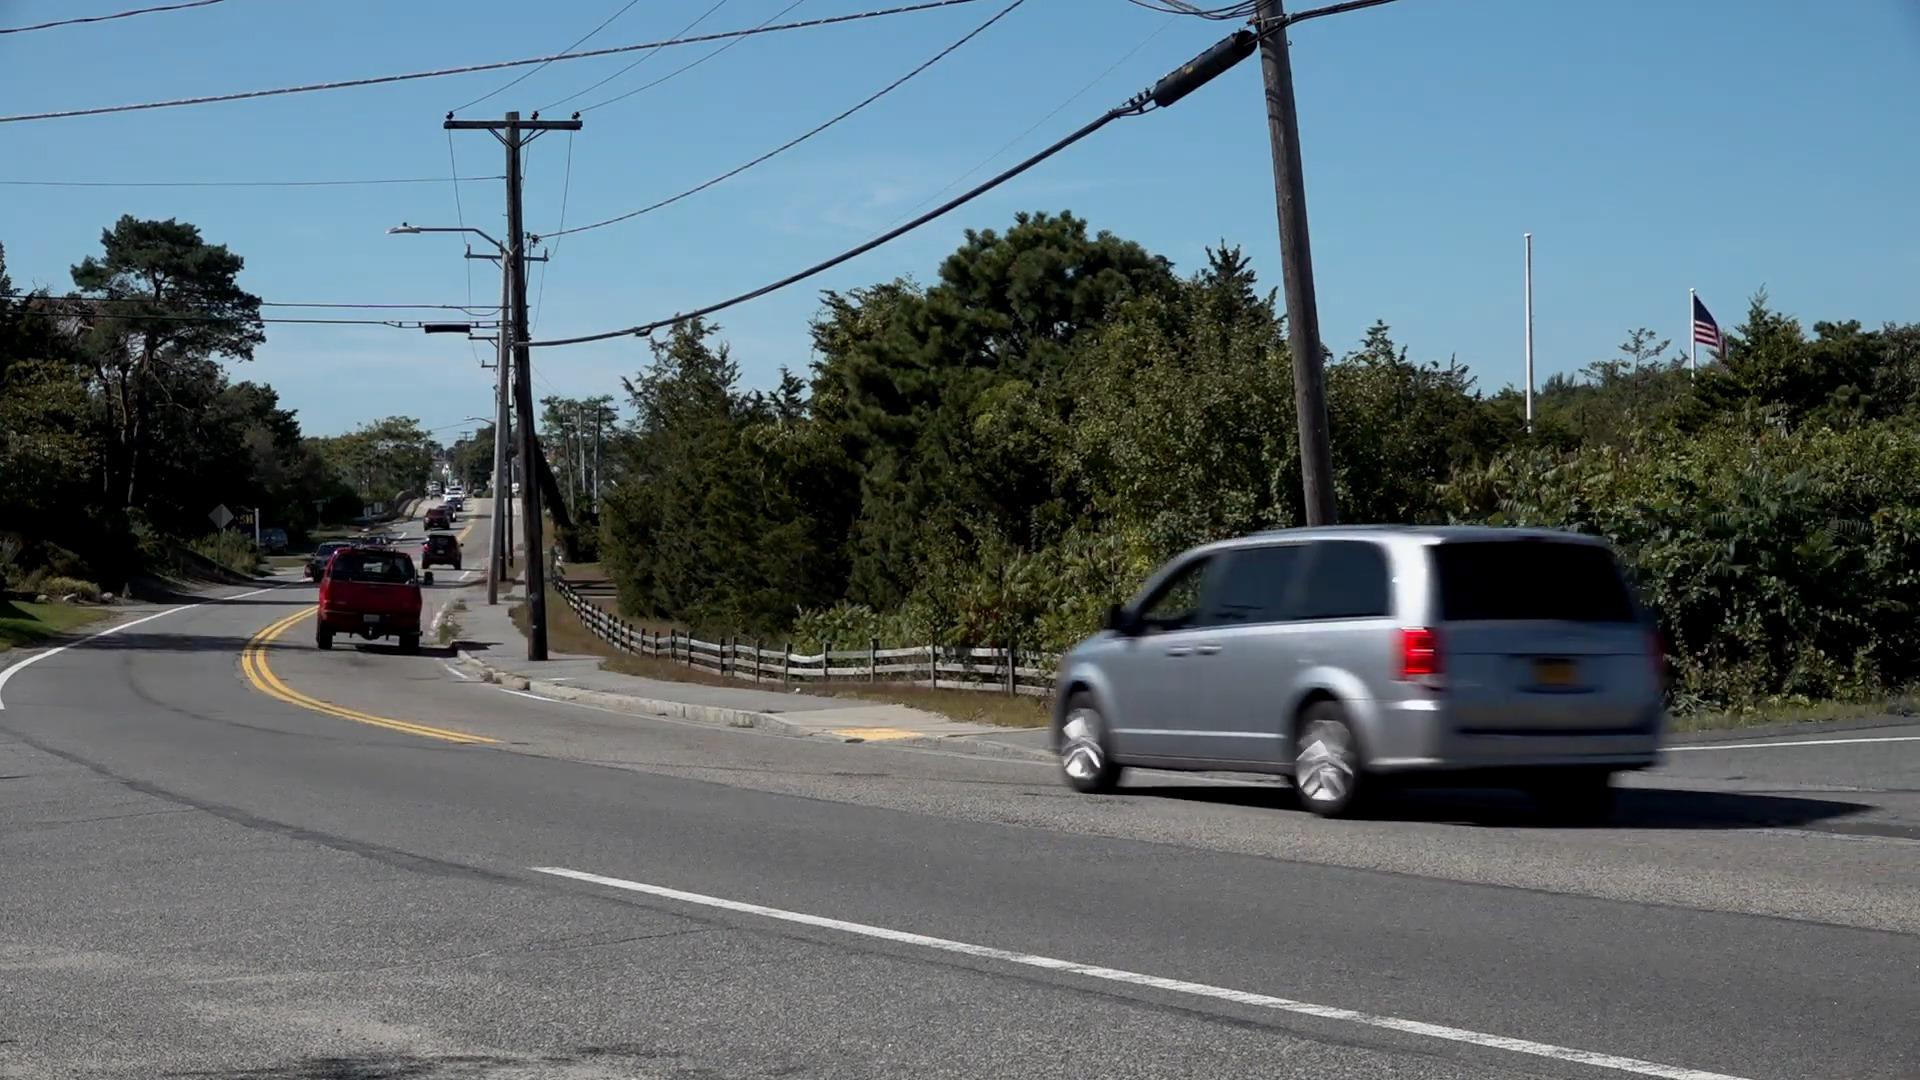minivan: (1056, 524, 1669, 814)
pickup: (315, 545, 431, 655)
